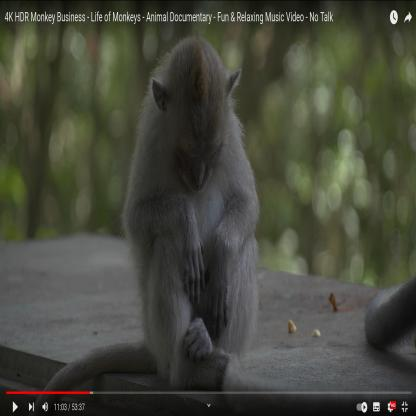monkey: (118, 30, 268, 386)
